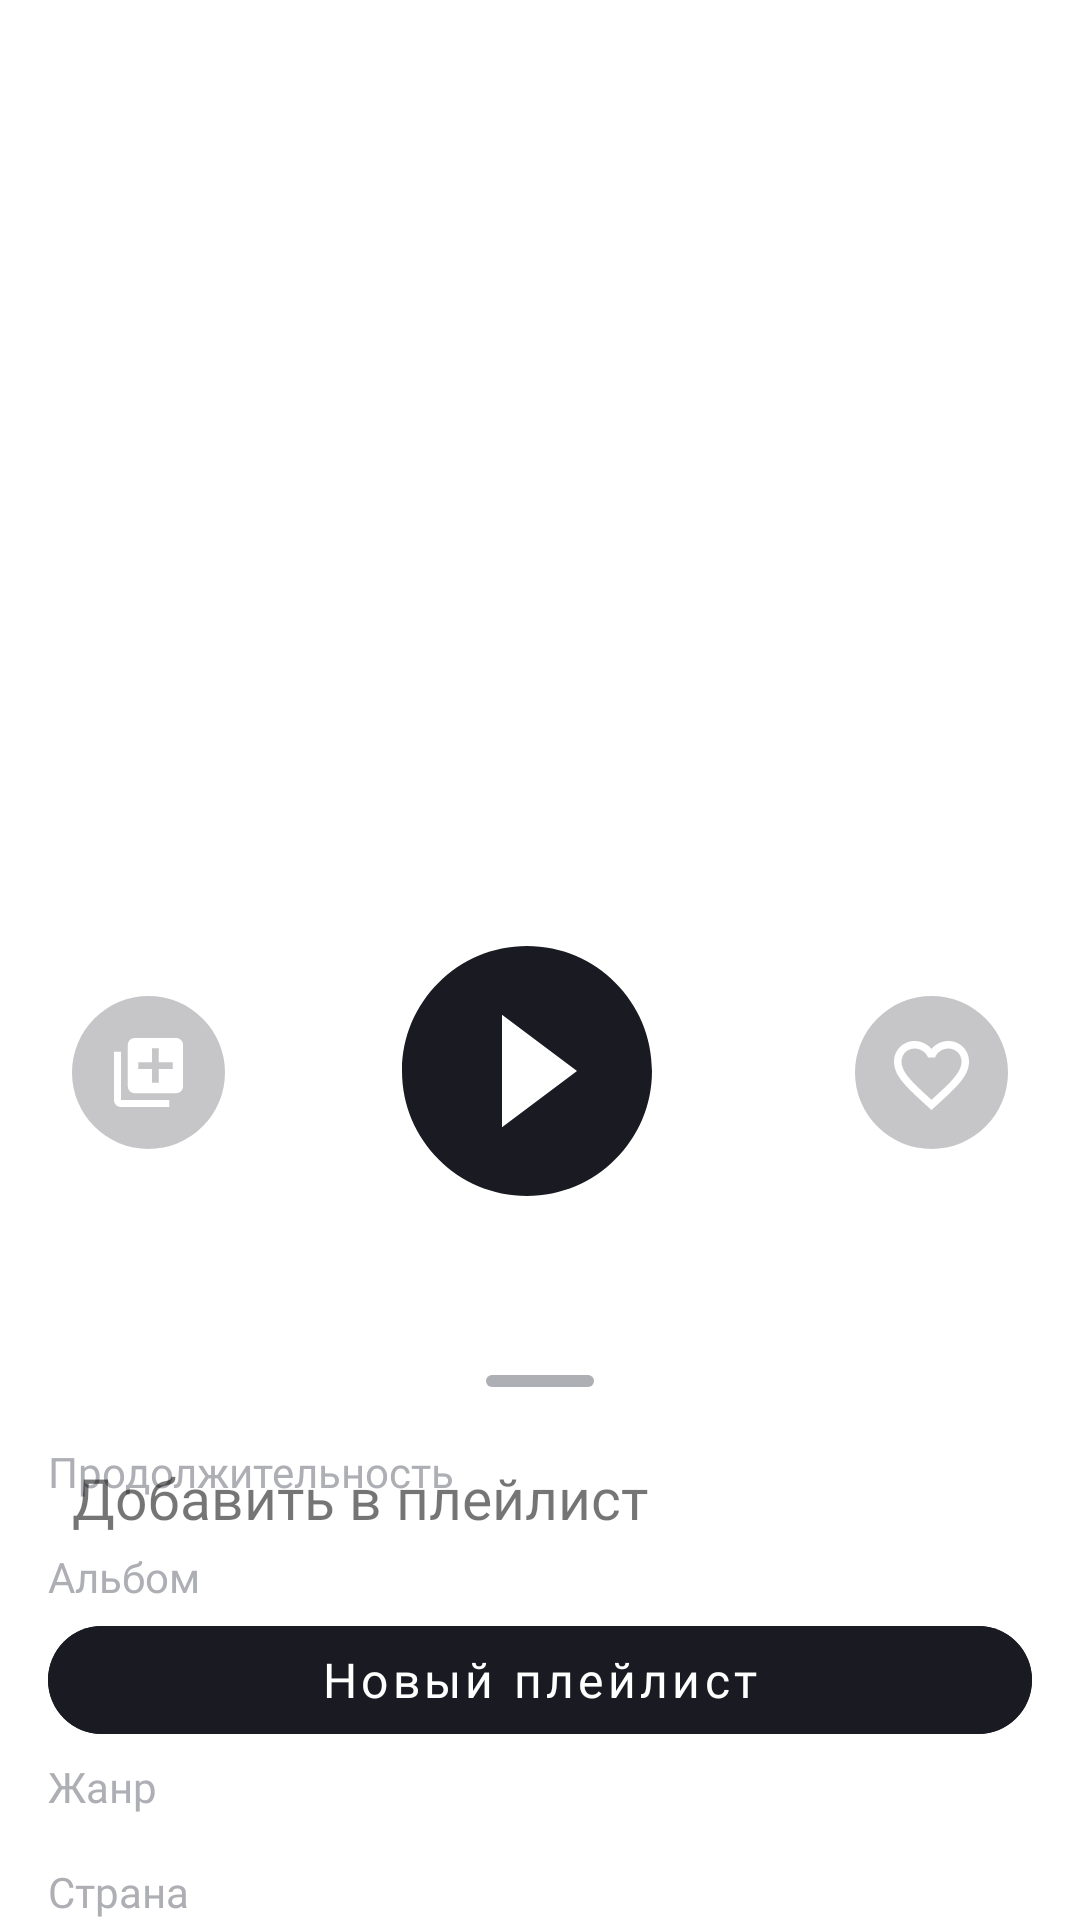

Icons on this 1080×1920 Android screen, each with its box as (x1,y1,x2,y2):
add playlist: (72,996,225,1149)
favourites: (855,996,1008,1149)
play: (402,946,652,1196)
